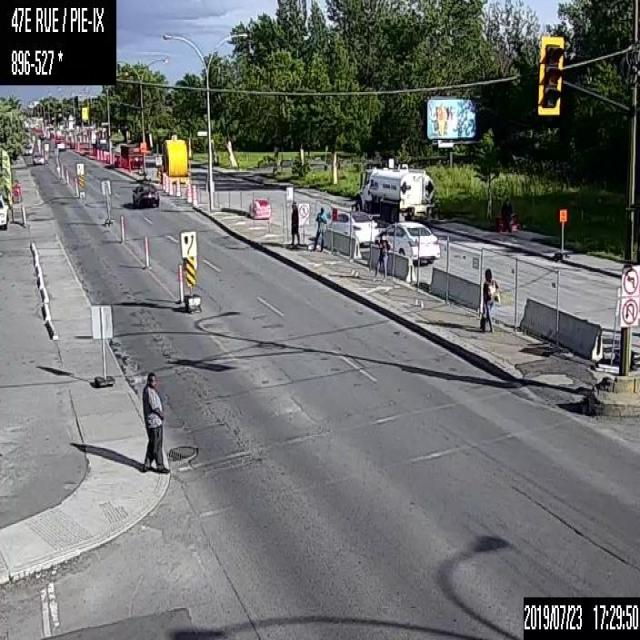construction: (177, 261, 184, 303), (144, 233, 148, 267), (191, 185, 197, 205), (186, 181, 192, 201), (119, 215, 123, 241), (175, 179, 181, 196), (168, 179, 172, 194), (74, 176, 77, 195), (65, 168, 68, 184)
pedestrian: (140, 369, 167, 474), (479, 266, 501, 331), (374, 231, 392, 280), (312, 204, 327, 253), (289, 200, 300, 245), (501, 196, 511, 232)
vehicle: (356, 158, 434, 222), (373, 220, 442, 264), (326, 209, 378, 247), (131, 180, 159, 205), (0, 193, 8, 228), (32, 150, 45, 164), (54, 139, 64, 149), (21, 144, 32, 153)
